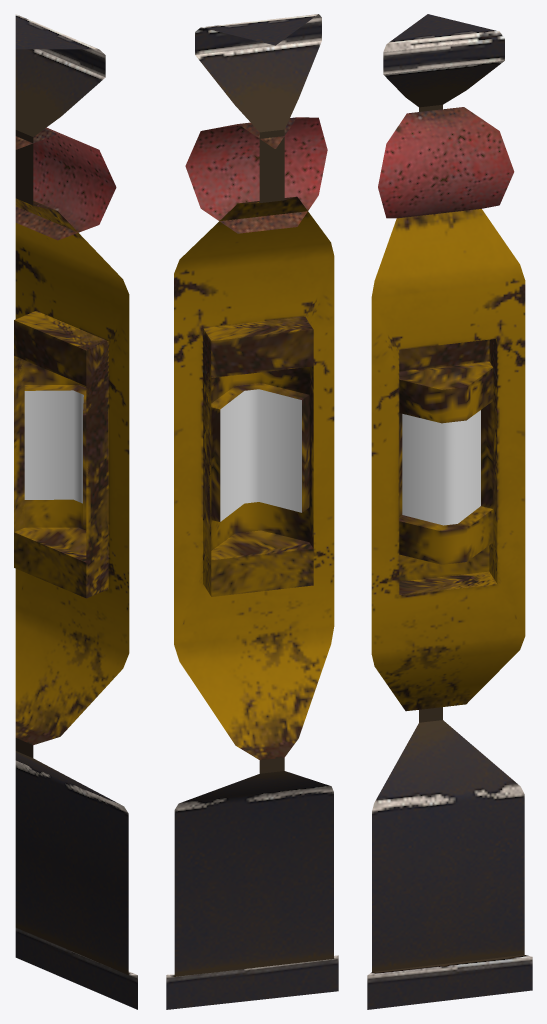
The model's file is inversewallfinal.glb.
3 views of the same model, side by side, from view 1: azimuth 90°, elevation 25°; view 2: azimuth 150°, elevation 25°; view 3: azimuth 330°, elevation 25° (orthographic). The views are drawn at different scales.
Parts seen in each view (by area): view 1: Cube.008; view 2: Cube.008; view 3: Cube.008.
Boxes of the visible parts, x1,y1,x2,y2 form: Cube.008: (14,14,137,1009); Cube.008: (166,14,338,1009); Cube.008: (367,14,532,1009).
Size of the model in its own units: 0.4673 by 4 by 0.4673.
Materials: 4 (4 with a texture image).
